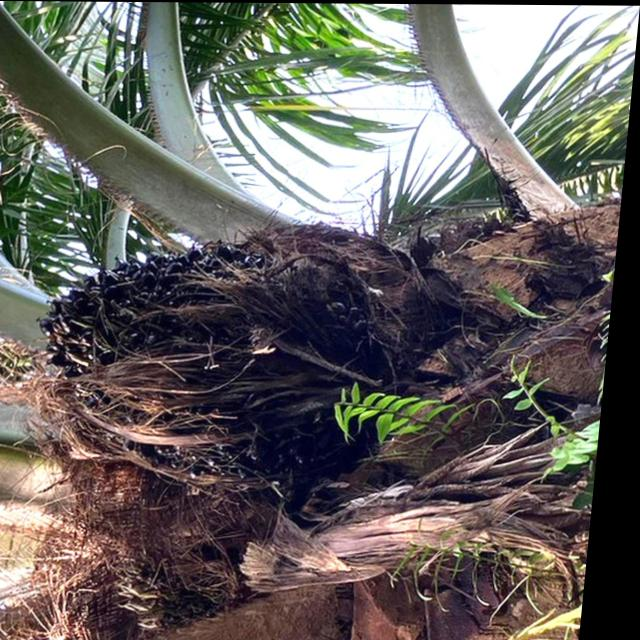unripe: (44, 237, 316, 399)
